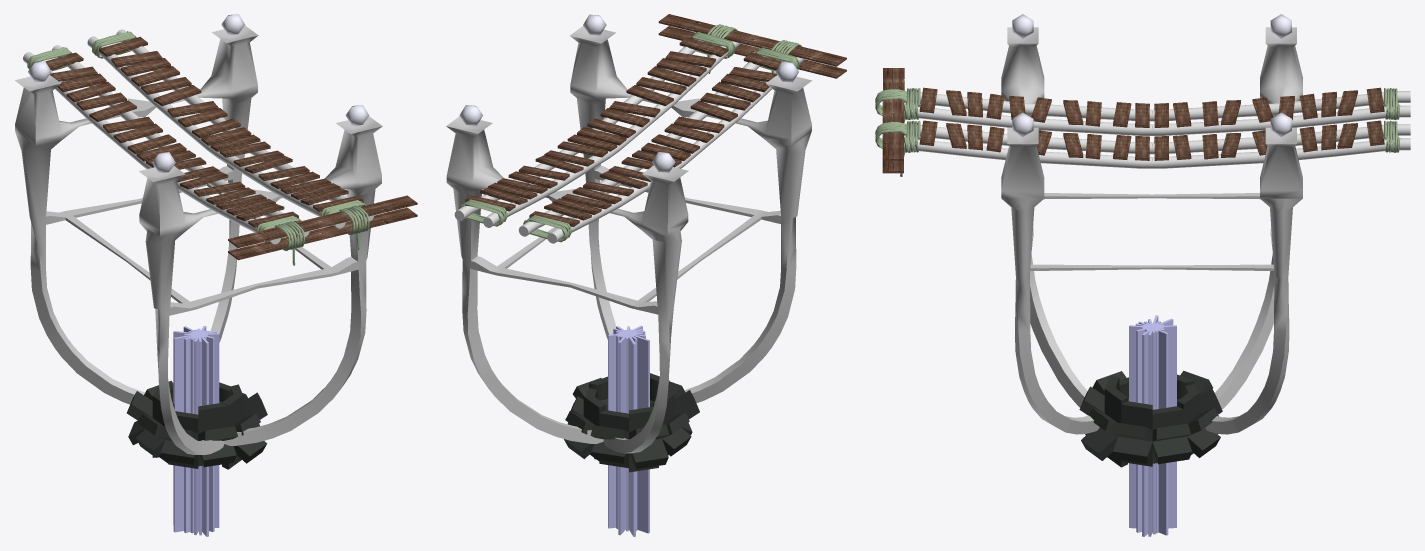
The model's file is 2_bridge_straight.fbx.
3 renders of one model, left to right at view 1: azimuth 30°, elevation 25°; view 2: azimuth 150°, elevation 25°; view 3: azimuth 270°, elevation 25°, orthographic. The views are drawn at different scales.
Parts seen in each view (by area): view 1: 2_straight_base, gravityring, 2_straight_LaR, 2_straight_LaL, 2_straight_verschlag, 2_straight_ropevertical, 2_straight_LaR_ropes, 2_straight_LaL_ropes; view 2: 2_straight_base, gravityring, 2_straight_LaR, 2_straight_LaL, 2_straight_verschlag, 2_straight_LaR_ropes, 2_straight_LaL_ropes, 2_straight_ropevertical; view 3: 2_straight_base, gravityring, 2_straight_LaL, 2_straight_LaR, 2_straight_verschlag, 2_straight_LaL_ropes, 2_straight_LaR_ropes, 2_straight_ropevertical.
Boxes of the visible parts, box(x1,y1,x2,y2) form: 2_straight_base: box(15, 14, 382, 454); gravityring: box(127, 326, 267, 536); 2_straight_LaR: box(87, 29, 374, 228); 2_straight_LaL: box(23, 45, 309, 244); 2_straight_verschlag: box(228, 195, 417, 260); 2_straight_ropevertical: box(274, 205, 369, 265); 2_straight_LaR_ropes: box(92, 31, 366, 226); 2_straight_LaL_ropes: box(27, 47, 301, 241); 2_straight_base: box(446, 14, 812, 453); gravityring: box(564, 325, 699, 536); 2_straight_LaR: box(454, 37, 739, 227); 2_straight_LaL: box(518, 53, 803, 243); 2_straight_verschlag: box(658, 14, 846, 78); 2_straight_LaR_ropes: box(459, 32, 735, 226); 2_straight_LaL_ropes: box(523, 47, 799, 242); 2_straight_ropevertical: box(705, 24, 801, 73); 2_straight_base: box(1001, 14, 1302, 434); gravityring: box(1079, 315, 1222, 536); 2_straight_LaL: box(904, 87, 1410, 135); 2_straight_LaR: box(904, 120, 1410, 168); 2_straight_verschlag: box(882, 68, 904, 173); 2_straight_LaL_ropes: box(904, 88, 1400, 120); 2_straight_LaR_ropes: box(904, 120, 1400, 152); 2_straight_ropevertical: box(875, 89, 907, 176).
Size of the model in its own units: 64 by 118 by 124.
7 materials, 1 textured.
